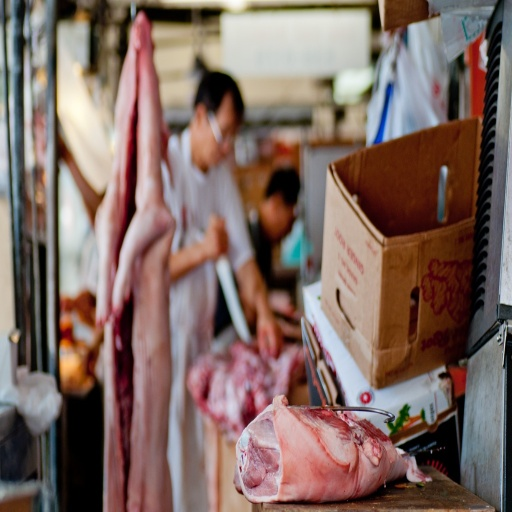hand: (257, 319, 286, 358), (206, 214, 230, 260)
